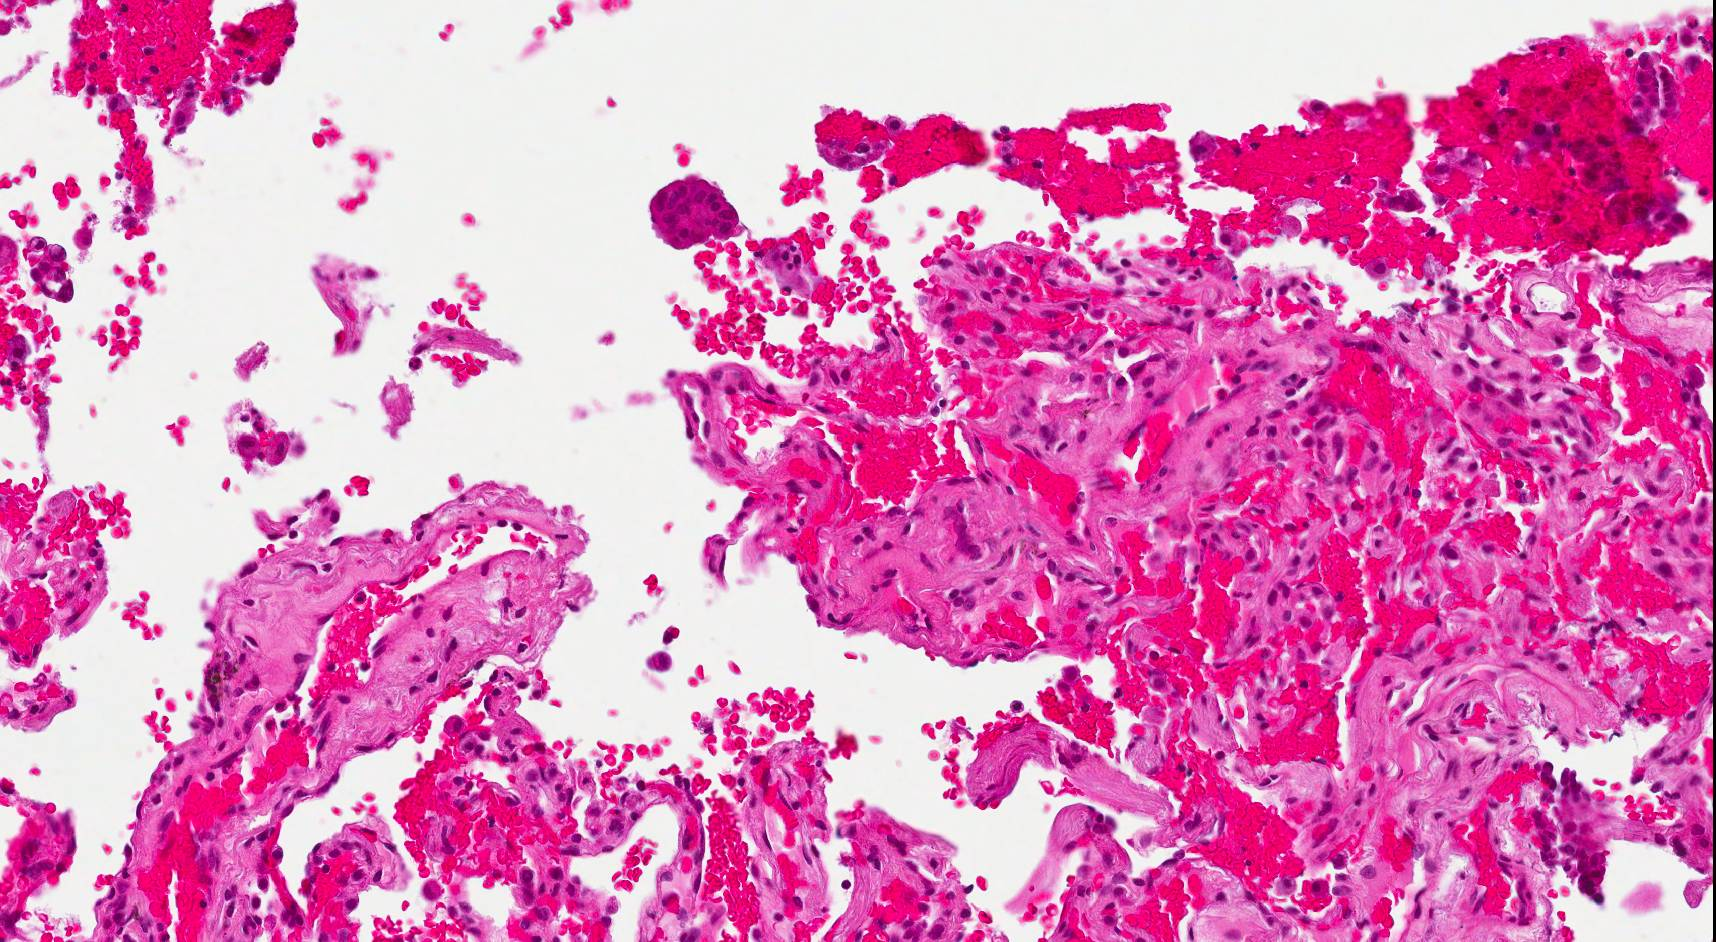stas: (650, 172, 740, 254)
